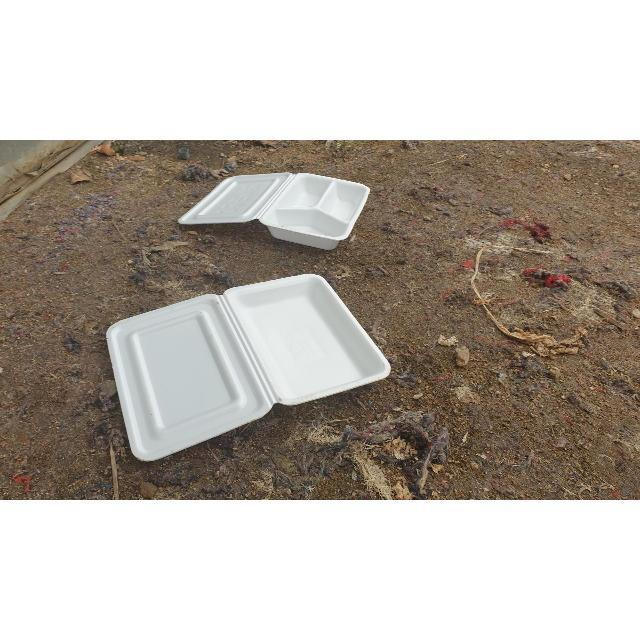Recipiente plastico: (108, 274, 390, 461), (179, 174, 370, 249)
